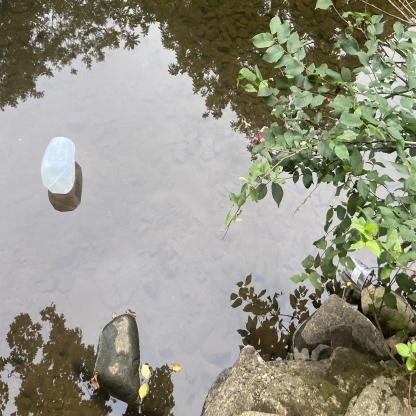trash: (38, 131, 80, 198)
